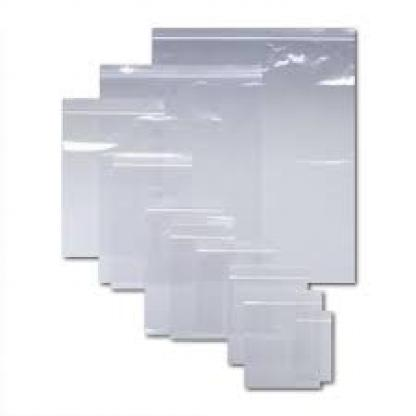Plastic: (38, 19, 385, 402)
